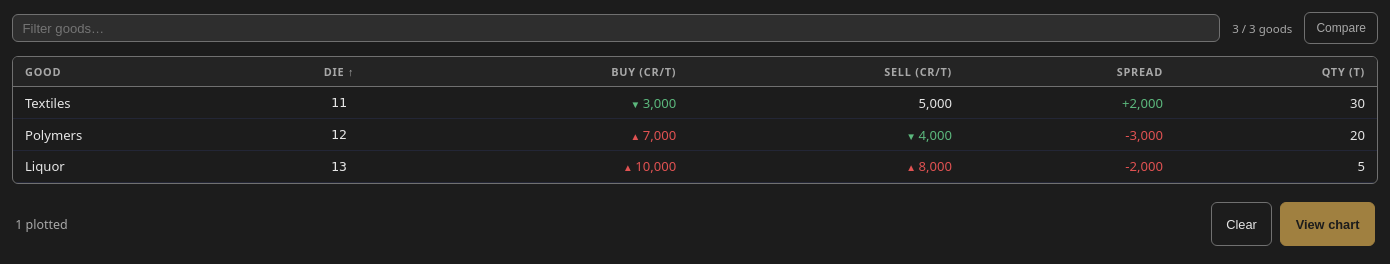
MarketTable — mobile compare mode › compare mode marks charted rows with a visible checkmark and aria-pressed
Click the button with class "compare-btn" at (1341, 28), box [1304,12,1378,44]
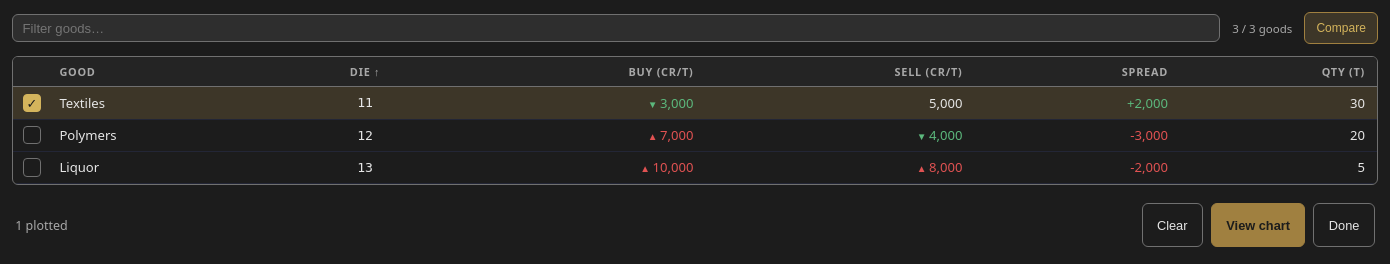
Expected: the text "✓" is shown, [23,94,41,112]
